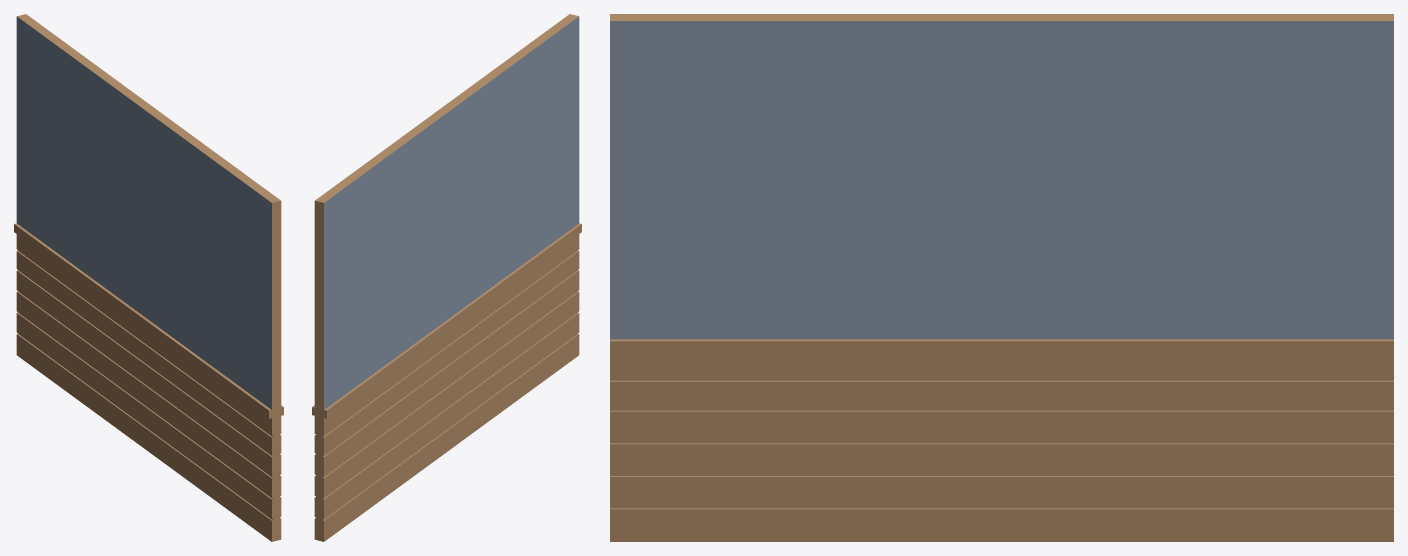
Rendered from int-wall.glb.
3 views of the same model, side by side, from view 1: azimuth 30°, elevation 25°; view 2: azimuth 150°, elevation 25°; view 3: azimuth 270°, elevation 25° (orthographic). The views are drawn at different scales.
Parts seen in each view (by area): view 1: Int. Wall (×2); view 2: Int. Wall (×2); view 3: Int. Wall (×2).
Boxes of the visible parts, x1,y1,x2,y2 form: Int. Wall (×2): (14, 14, 283, 541); Int. Wall (×2): (312, 14, 581, 541); Int. Wall (×2): (610, 14, 1393, 541).
Size of the model in its own units: 0.1 by 2.2 by 3.
